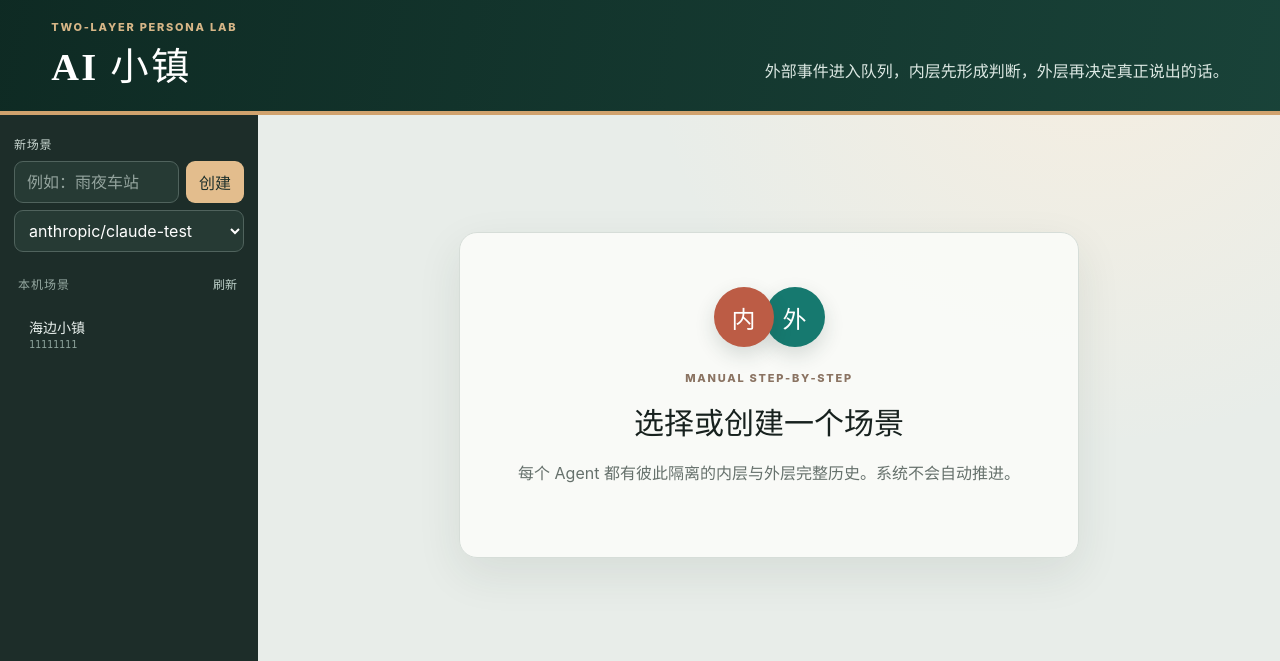
Test case: App › asks before rolling back and returns to the saved outer stage
Click the button "海边小镇 11111111" at (113, 334), box 19,308 -> 207,359
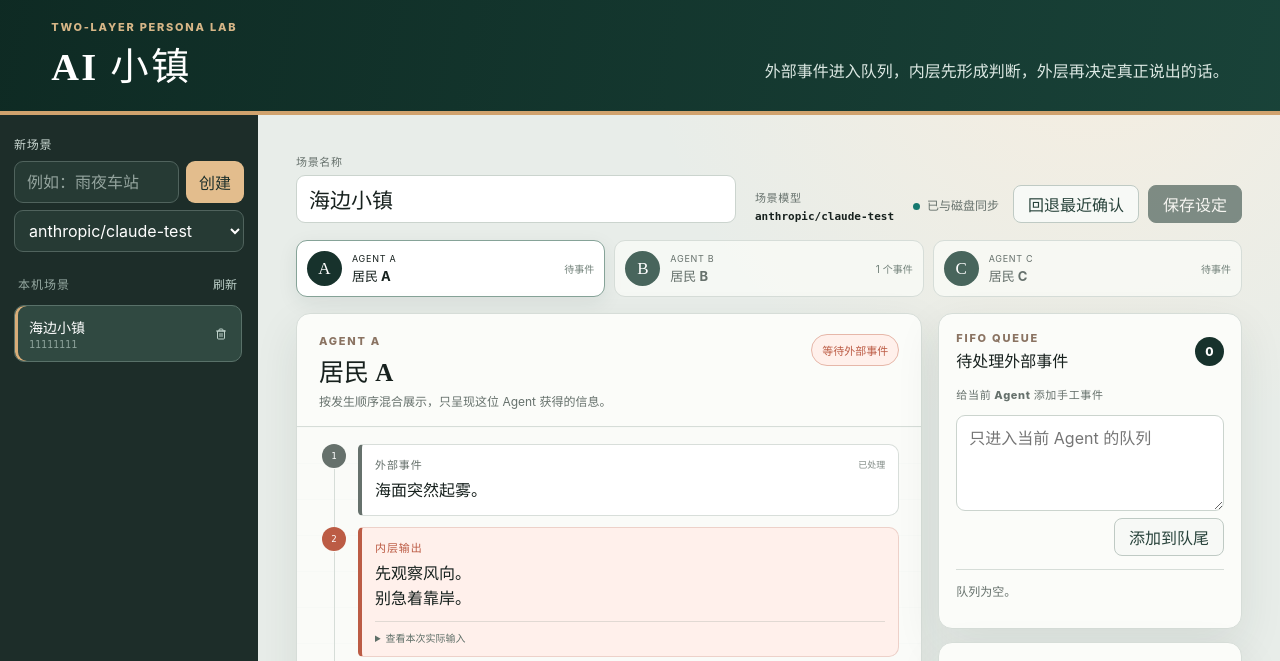
Click the button "回退最近确认" at (1076, 204), box 1013,185 -> 1139,223
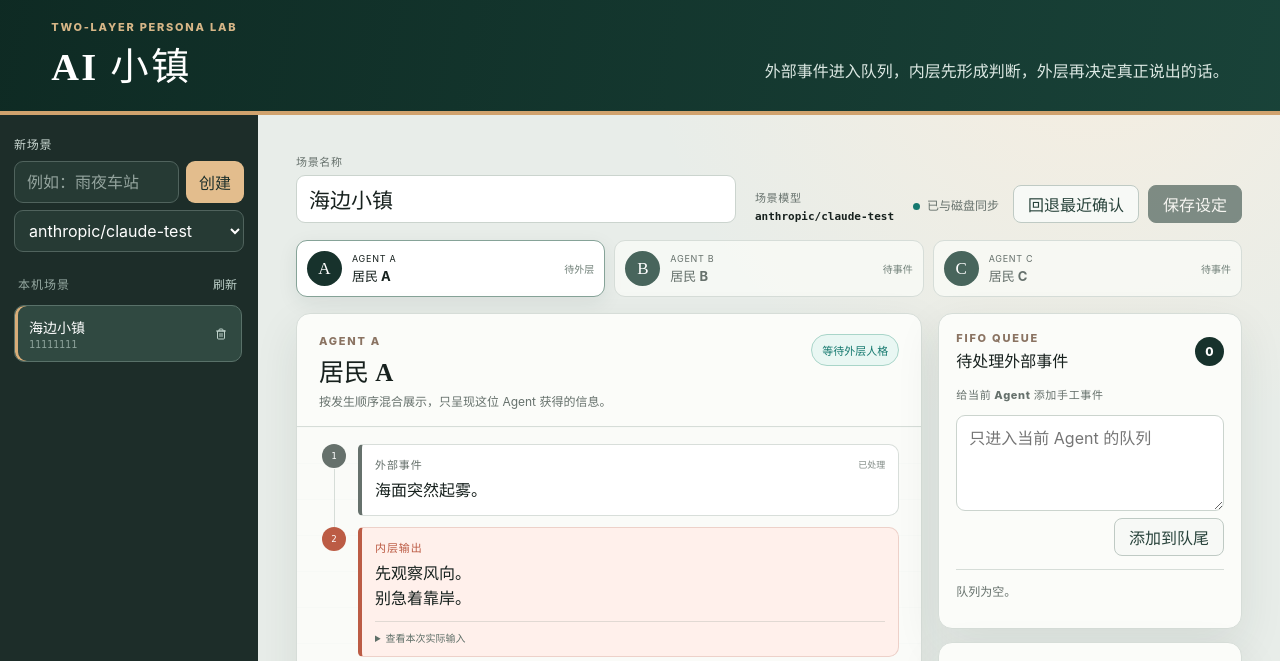
Expected: the text "等待外层人格" is shown, 811,334 -> 899,366
Expected: no list items with class "timeline-item--outer" are shown
